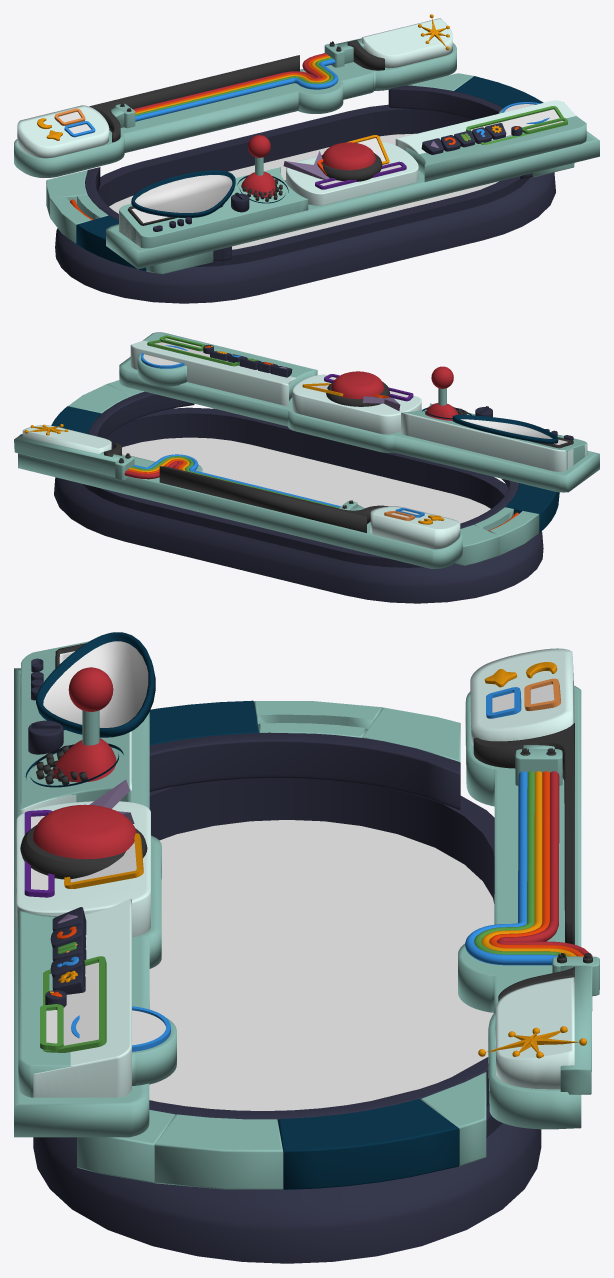
Rendered from HUD.glb.
3 views of the same model, one above another, from view 1: azimuth 30°, elevation 25°; view 2: azimuth 150°, elevation 25°; view 3: azimuth 270°, elevation 25° (orthographic). The views are drawn at different scales.
Parts seen in each view (by area): view 1: MainFrame, LPortal, LeftFrameBottom2, RPortal, RightFrameBottom2, BoomerangScreen, Wires, CenterConsole, RightFrameBottom, BigRedButton, RightScreen, LeftFrameBottom (+8 smaller); view 2: MainFrame, LPortal, LeftFrameBottom, RPortal, RightFrameBottom, CenterConsole, RightFrameBottom2, BoomerangScreen, Wires, BigRedButton, LeftFrameBottom2, DialScreens (+4 smaller); view 3: MainFrame, RPortal, LPortal, Wires, RightFrameBottom, BoomerangScreen, RightFrameBottom2, LeftFrameBottom2, CenterConsole, BigRedButton, RightScreen, Points (+8 smaller).
Boxes of the visible parts, box(x1,y1,x2,y2) form: MainFrame: box(14, 18, 599, 303); LPortal: box(46, 167, 231, 274); LeftFrameBottom2: box(119, 167, 308, 248); RPortal: box(388, 73, 574, 179); RightFrameBottom2: box(406, 108, 586, 181); BoomerangScreen: box(131, 170, 235, 217); Wires: box(133, 53, 338, 121); CenterConsole: box(286, 141, 418, 205); RightFrameBottom: box(395, 100, 575, 154); BigRedButton: box(322, 142, 375, 170); RightScreen: box(466, 106, 567, 144); LeftFrameBottom: box(119, 167, 281, 247); MainFrame: box(14, 357, 599, 603); LPortal: box(454, 478, 559, 565); LeftFrameBottom: box(401, 403, 586, 471); RPortal: box(51, 380, 194, 438); RightFrameBottom: box(130, 340, 295, 406); CenterConsole: box(292, 374, 421, 434); RightFrameBottom2: box(137, 332, 317, 400); BoomerangScreen: box(452, 415, 558, 443); Wires: box(124, 454, 340, 508); BigRedButton: box(331, 371, 384, 399); LeftFrameBottom2: box(404, 403, 587, 469); DialScreens: box(141, 335, 204, 368); MainFrame: box(14, 648, 599, 1263); RPortal: box(77, 1057, 489, 1189); LPortal: box(149, 700, 460, 809); Wires: box(465, 771, 592, 965); RightFrameBottom: box(33, 899, 131, 1097); BoomerangScreen: box(36, 632, 155, 737); RightFrameBottom2: box(18, 909, 176, 1097); LeftFrameBottom2: box(20, 641, 131, 814); CenterConsole: box(16, 801, 150, 937); BigRedButton: box(33, 804, 136, 859); RightScreen: box(43, 956, 106, 1052); Points: box(484, 662, 560, 718).
Size of the model in its own units: 4 by 1.16 by 2.19.
